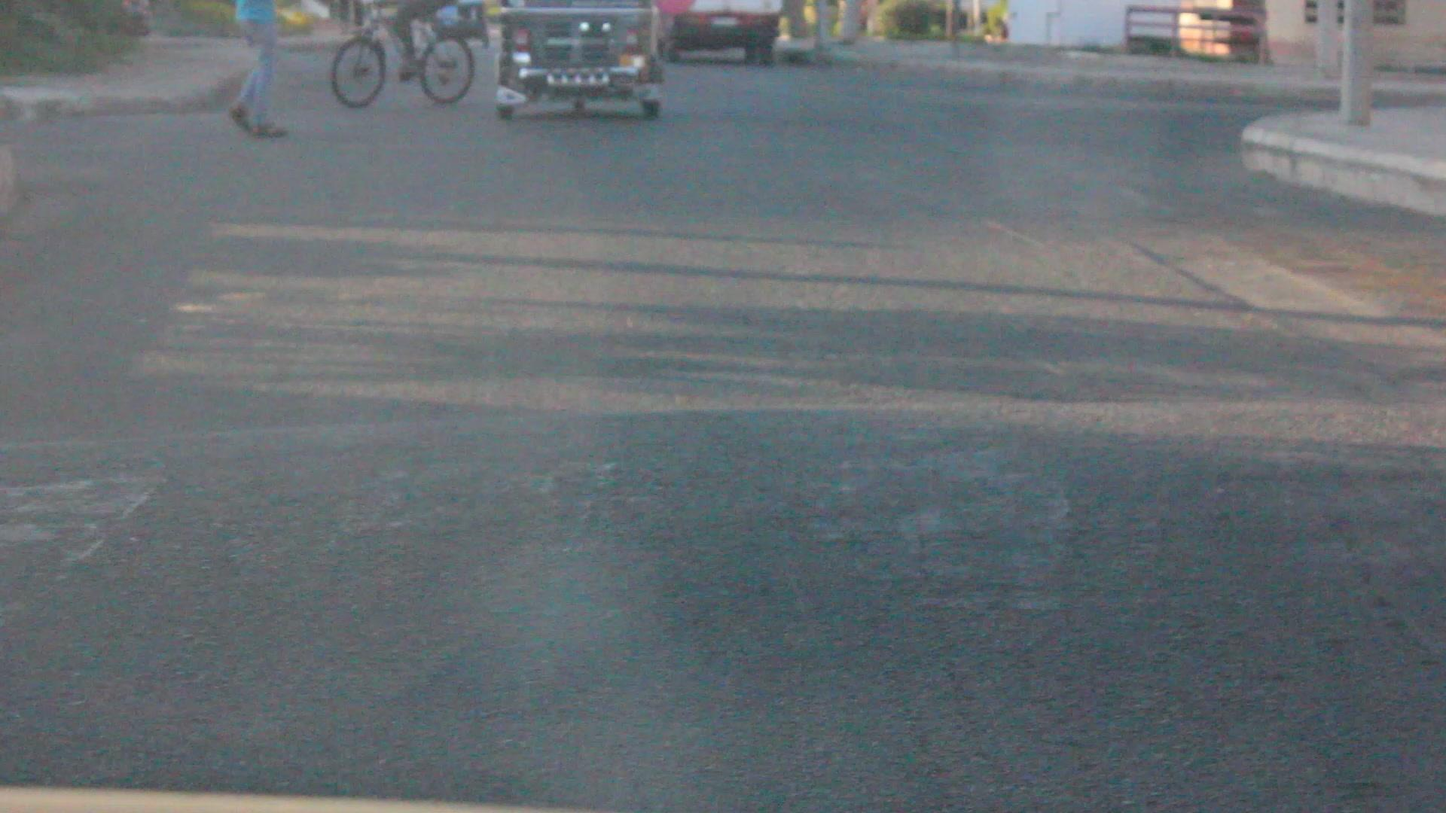Bump: (0, 400, 1445, 761)
